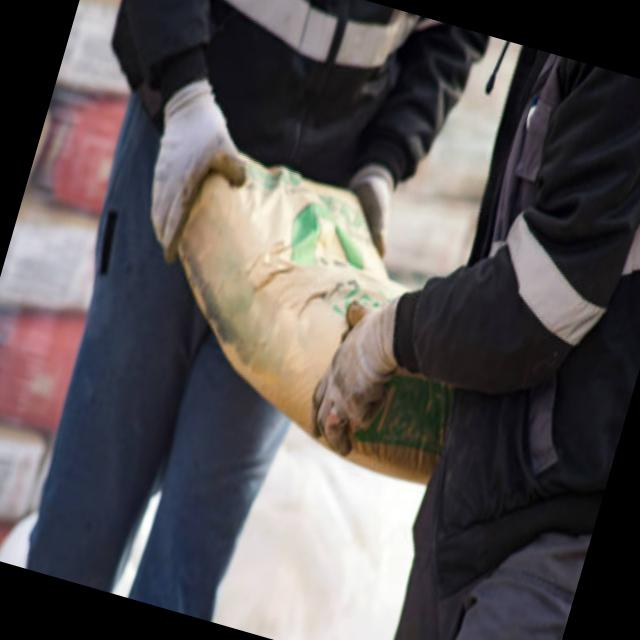KantongSemen: (126, 135, 510, 488)
